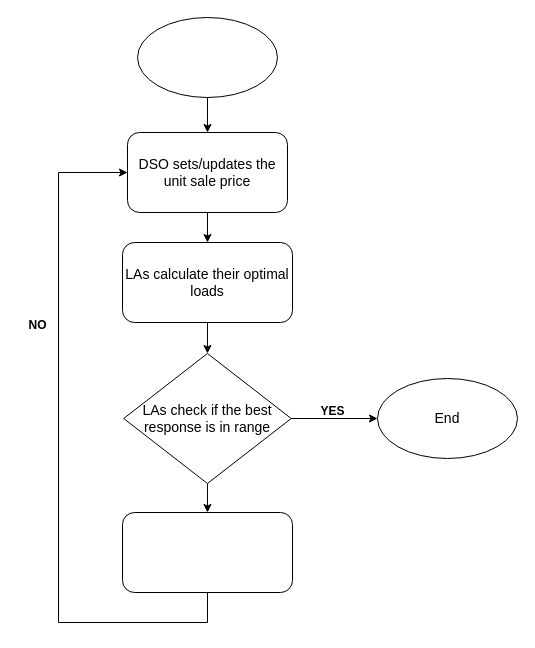
Some shapes in this 535 by 648 pixel diagram are drawn without their labels. The centre of each missing label's shape, as x and y in pixels:
LAs update their preference satisfaction and max price reference: (x=207, y=552)
Start: (x=207, y=57)
